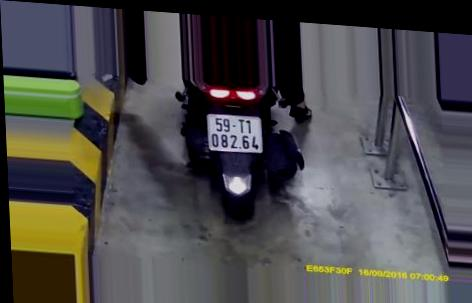License_Plate: (203, 109, 265, 159)
